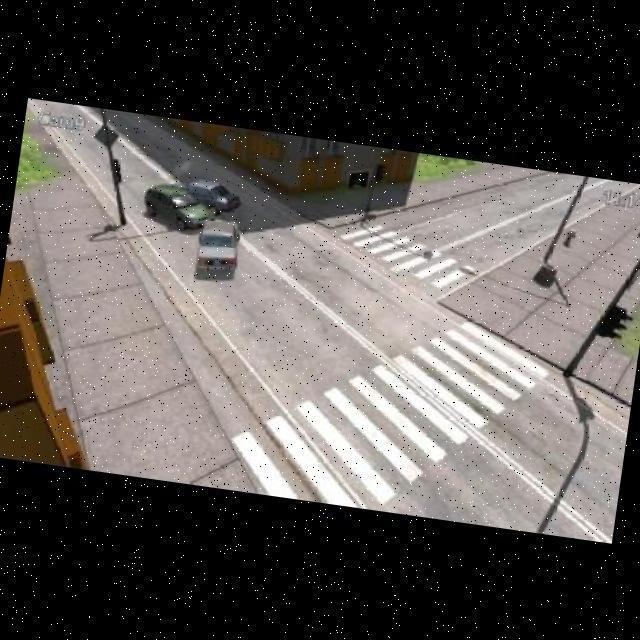accident: (177, 173, 238, 222)
